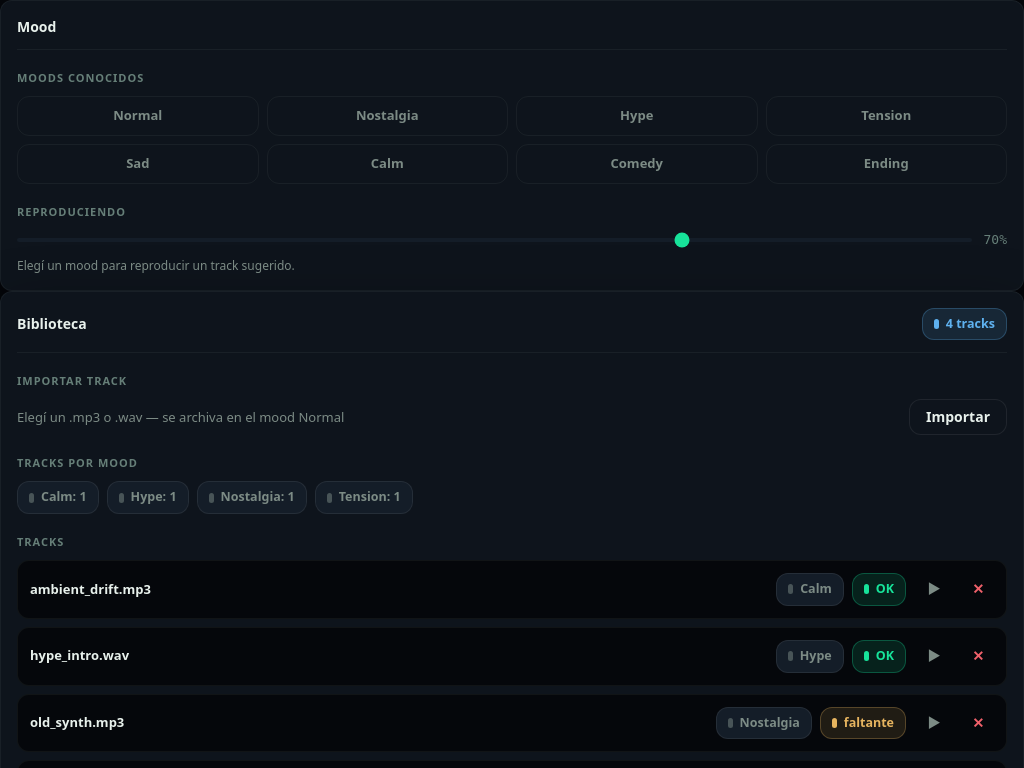
it: MusicPanel Importar is wired to the native dialog + POST /api/music/import › translates a 422 detail token instead of printing it raw
The image size is (1024, 768).
Click the button "Importar": point(958, 417) [909,399,1007,435]
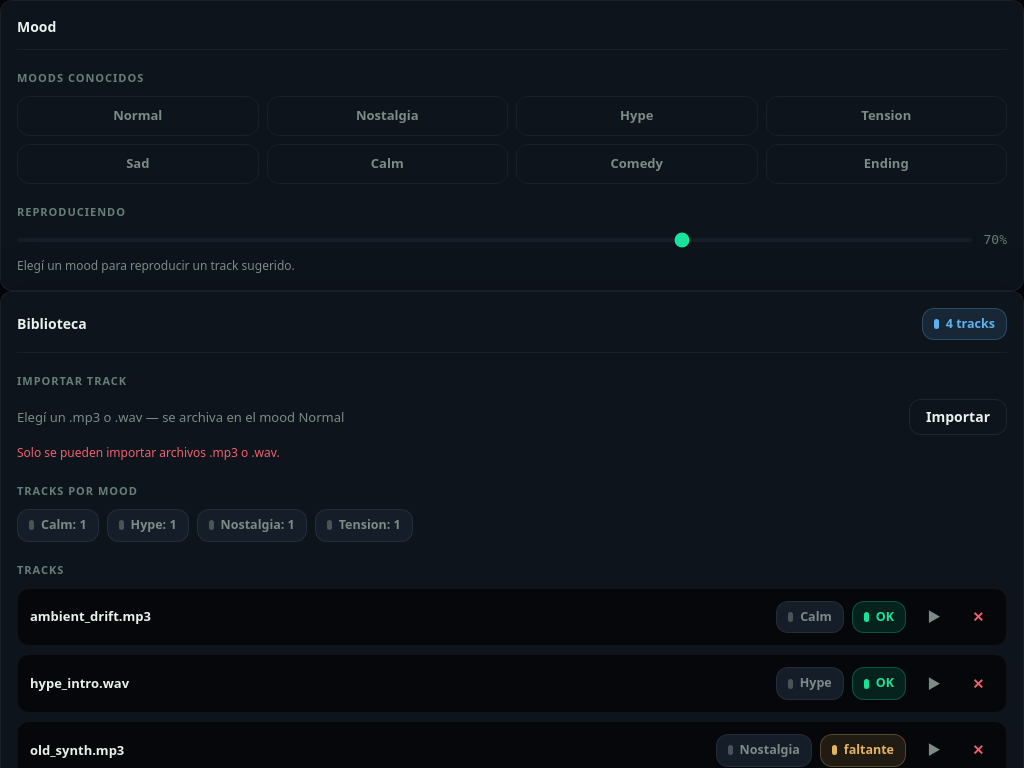
Now the message reads "Solo se pueden importar archivos .mp3 o .wav.", box [17,444,280,461]
